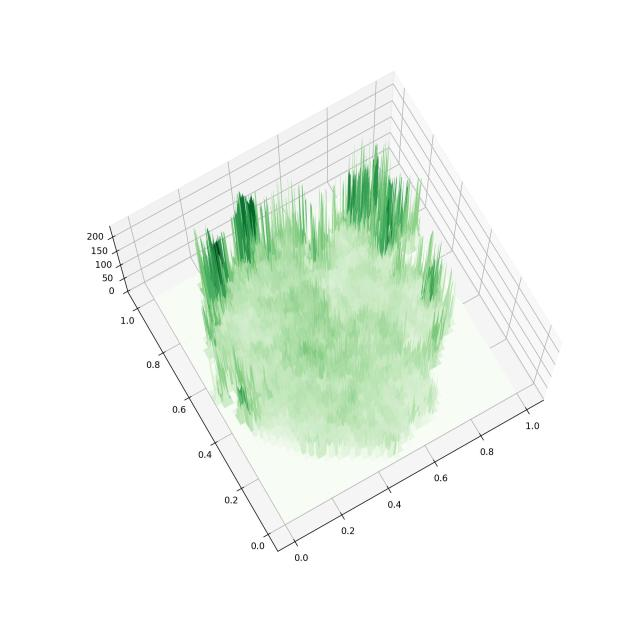fir: (35, 13, 582, 586)
